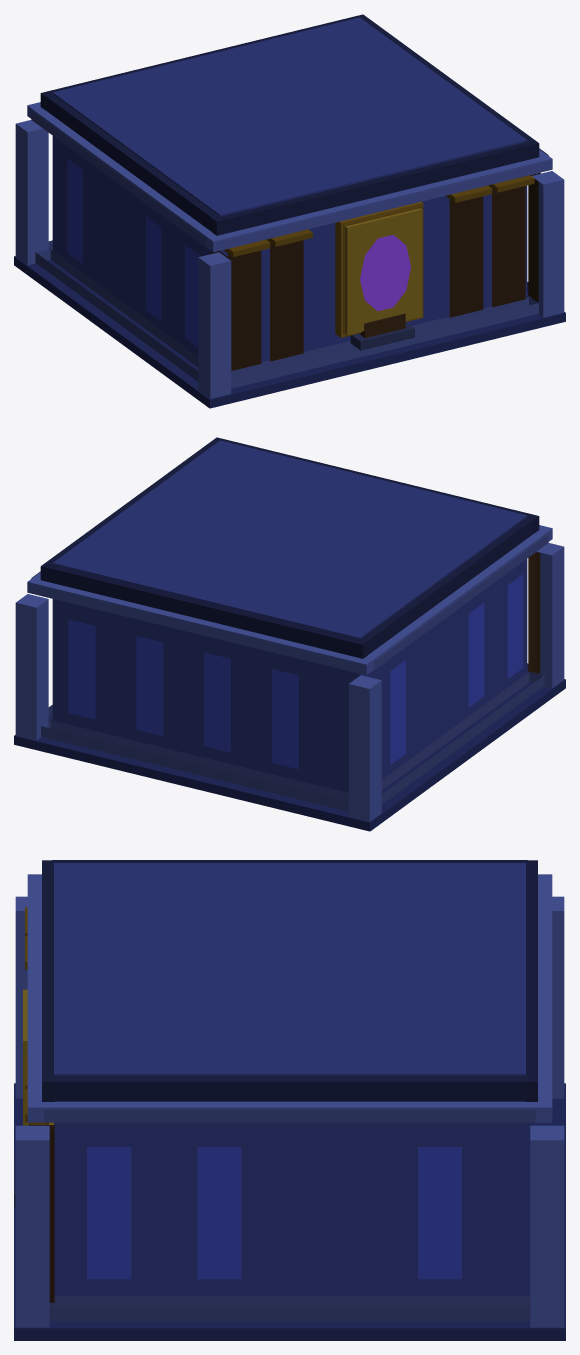
Rendered from PortalMirrorSil.fbx.
3 views of the same model, one above another, from view 1: azimuth 30°, elevation 25°; view 2: azimuth 150°, elevation 25°; view 3: azimuth 270°, elevation 25° (orthographic). The views are drawn at different scales.
Parts seen in each view (by area): view 1: PR_S_All; view 2: PR_S_All; view 3: PR_S_All.
Part boxes in pixels (x1,y1,x2,y2): PR_S_All: (14,14,565,408); PR_S_All: (14,437,565,831); PR_S_All: (14,860,565,1340).
Size of the model in its own units: 42.04 by 20 by 40.04.
